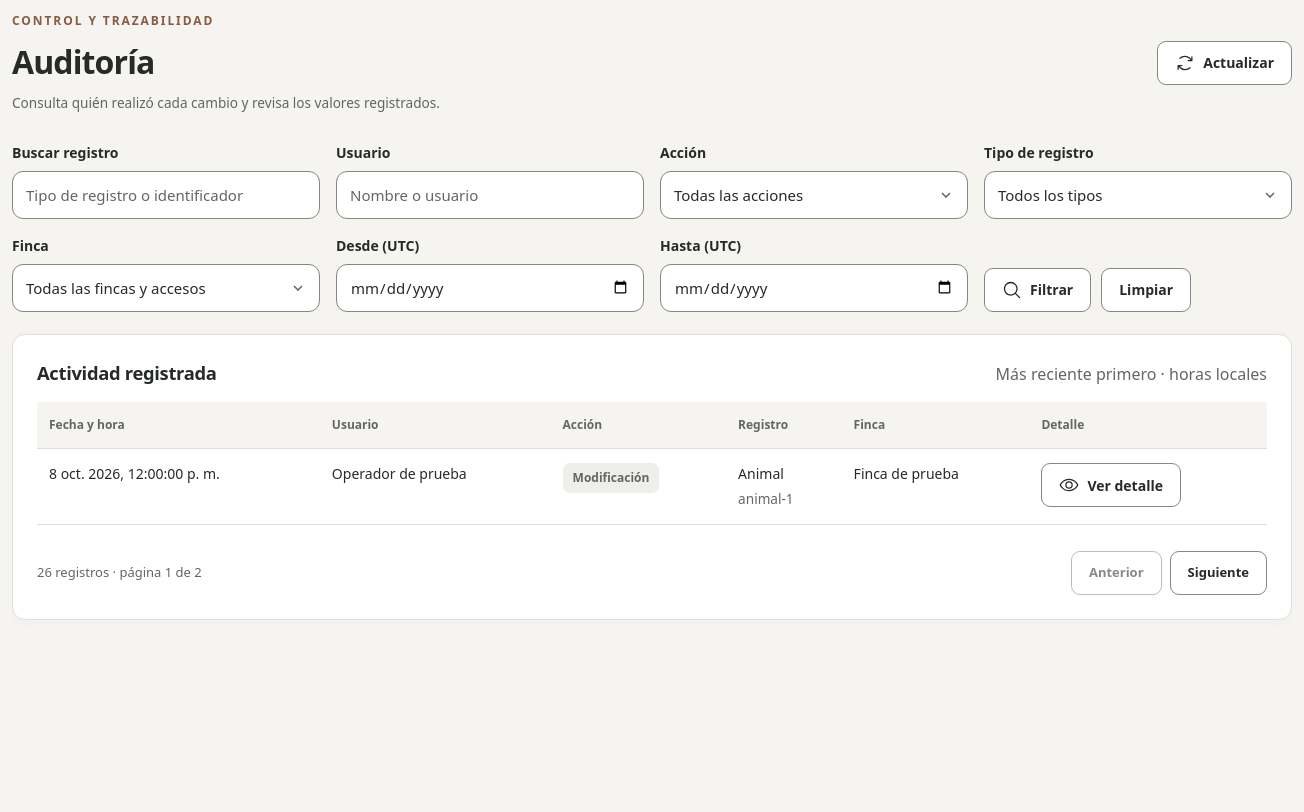
Test: requests the next bounded server page
Expected: the table named "Eventos de auditoría" is shown, [37,402,1267,525]
Step 1. Click the button "Siguiente" → (1218, 573), box [1170,551,1267,595]
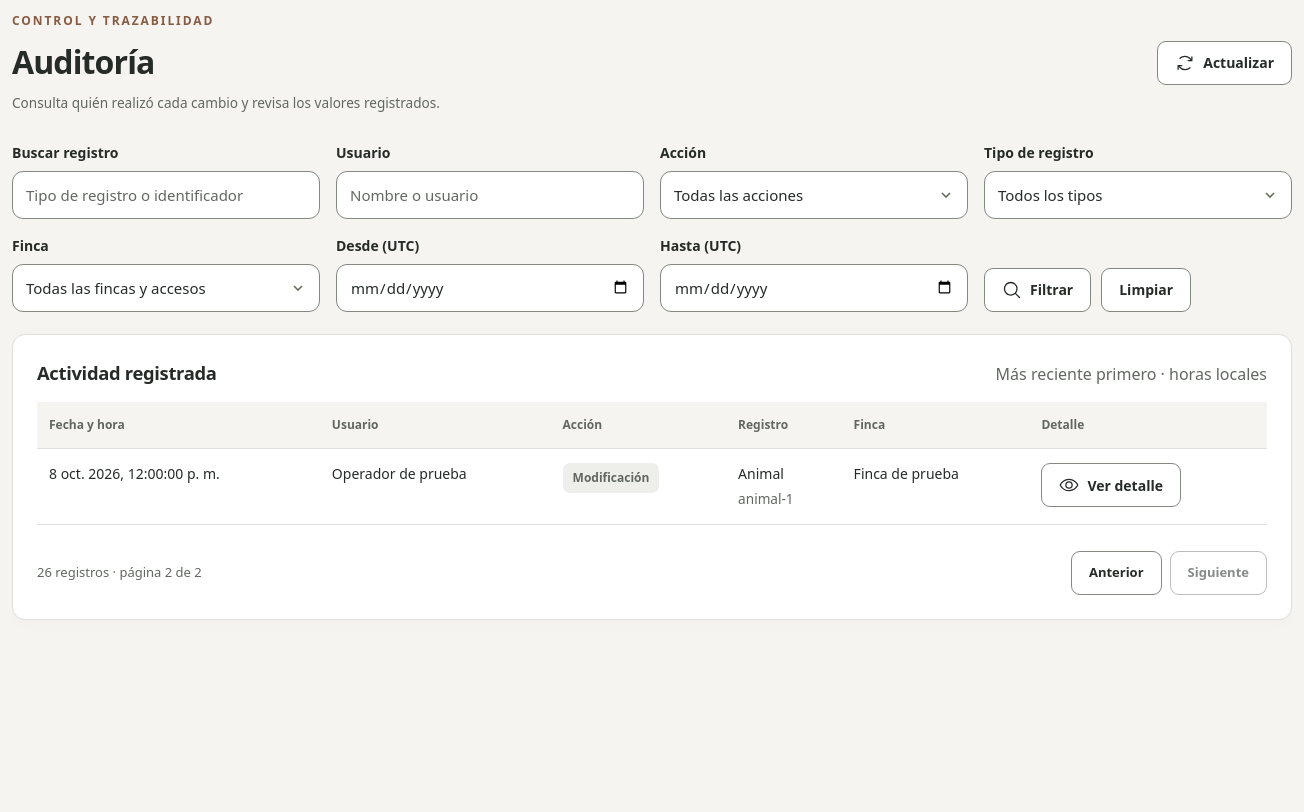
Expected: the text "26 registros · página 2 de 2" is shown, [37,563,202,582]
